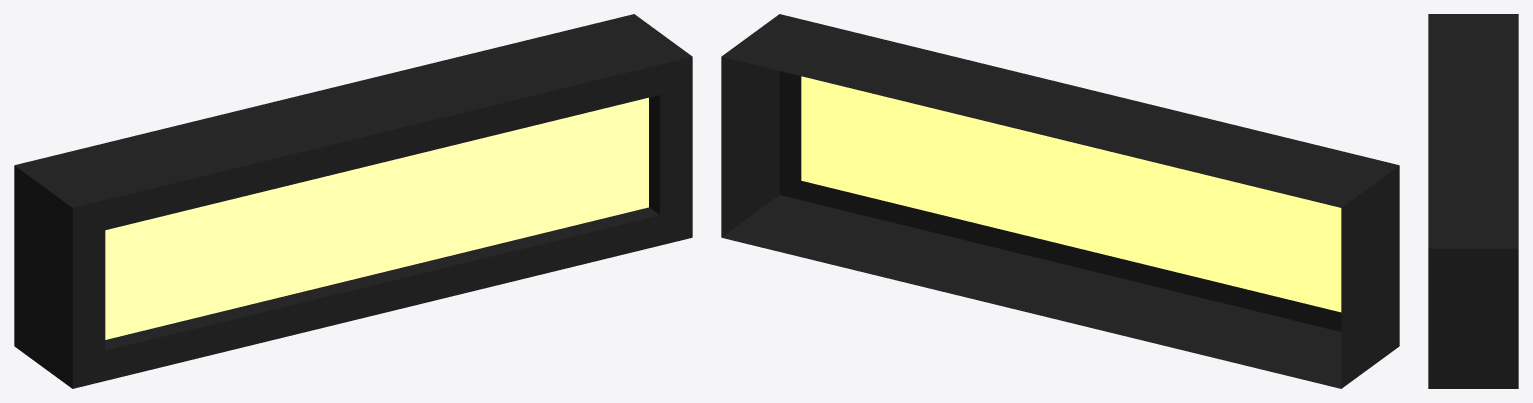
Rendered from lamp_3.glb.
3 renders of one model, left to right at view 1: azimuth 30°, elevation 25°; view 2: azimuth 150°, elevation 25°; view 3: azimuth 270°, elevation 25°, orthographic. The views are drawn at different scales.
Parts seen in each view (by area): view 1: Wall Light 1; view 2: Wall Light 1; view 3: Wall Light 1.
Boxes of the visible parts, left/top/right/bottom form: Wall Light 1: left=14, top=14, right=692, bottom=388; Wall Light 1: left=721, top=14, right=1399, bottom=388; Wall Light 1: left=1428, top=14, right=1518, bottom=388.
Size of the model in its own units: 0.9891 by 0.2759 by 0.1612.
2 materials, 1 textured.
